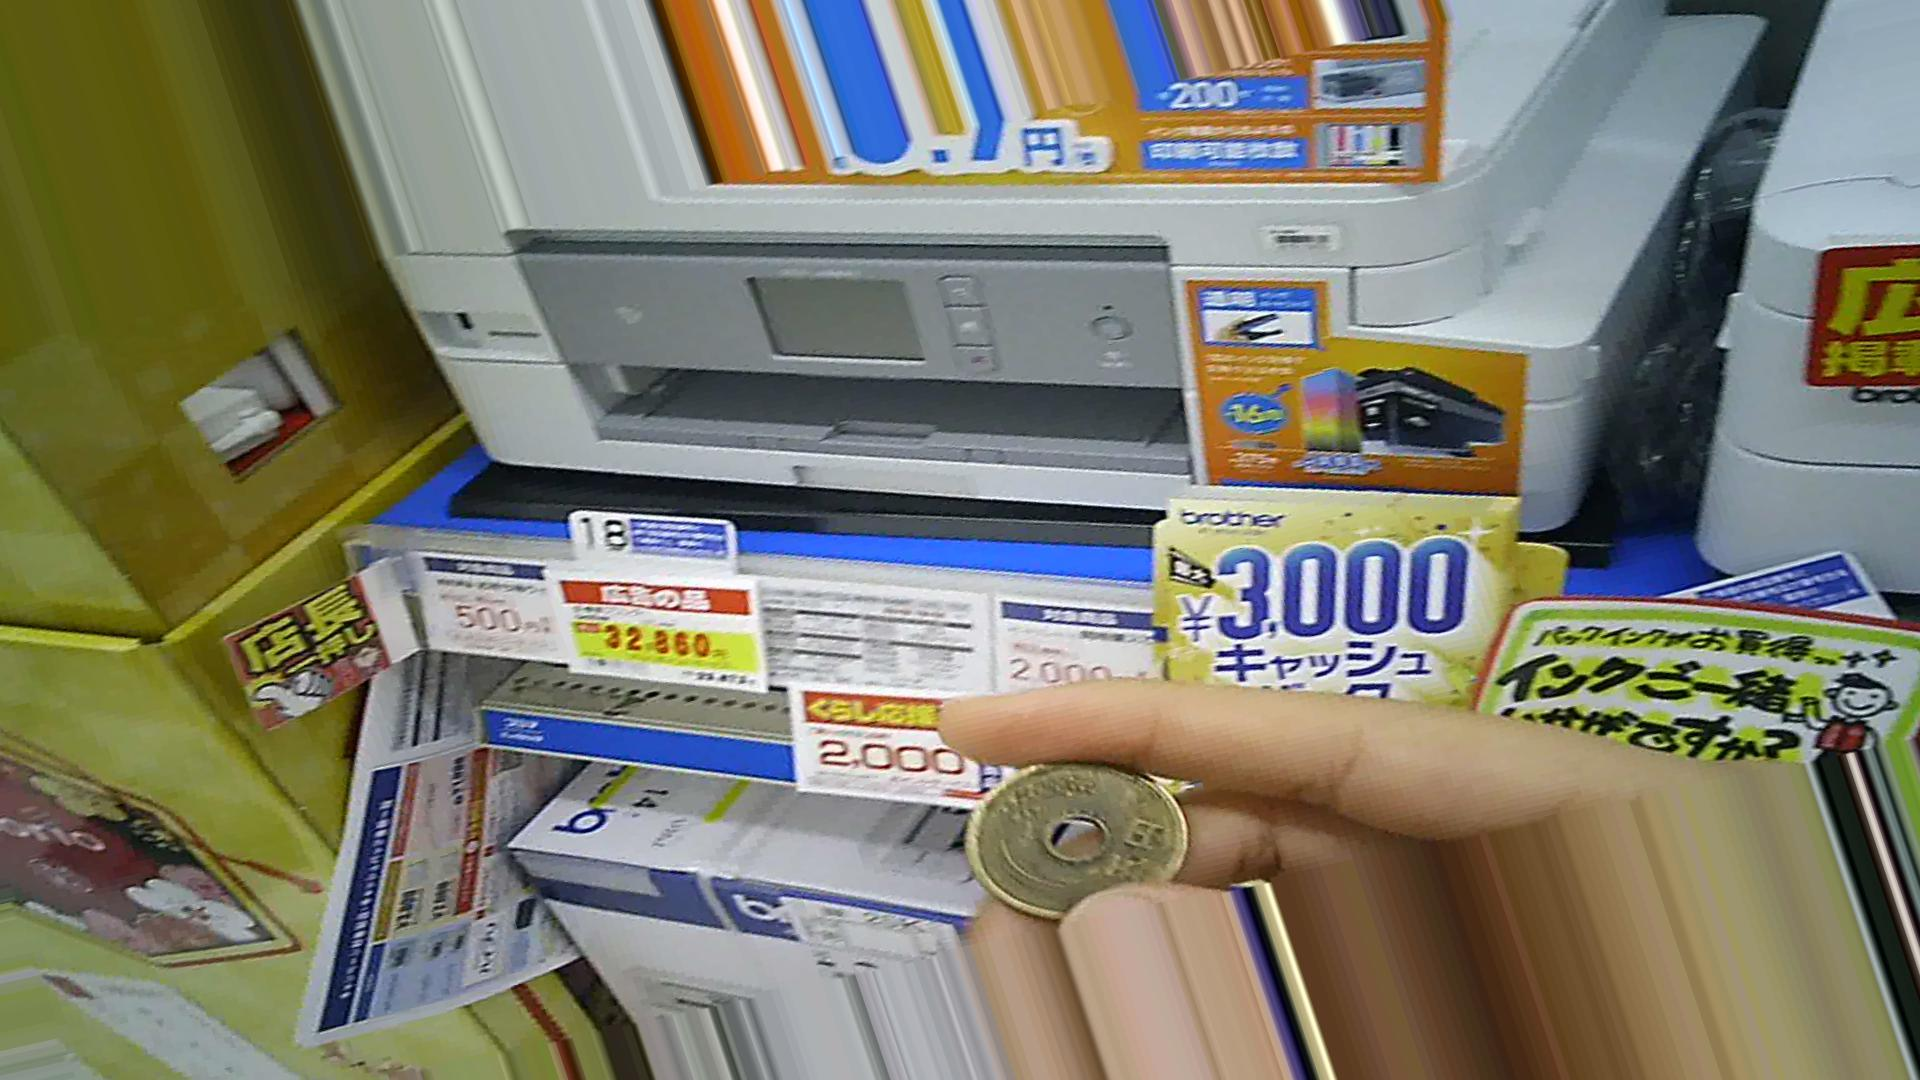5 Yen: (952, 760, 1218, 940)
